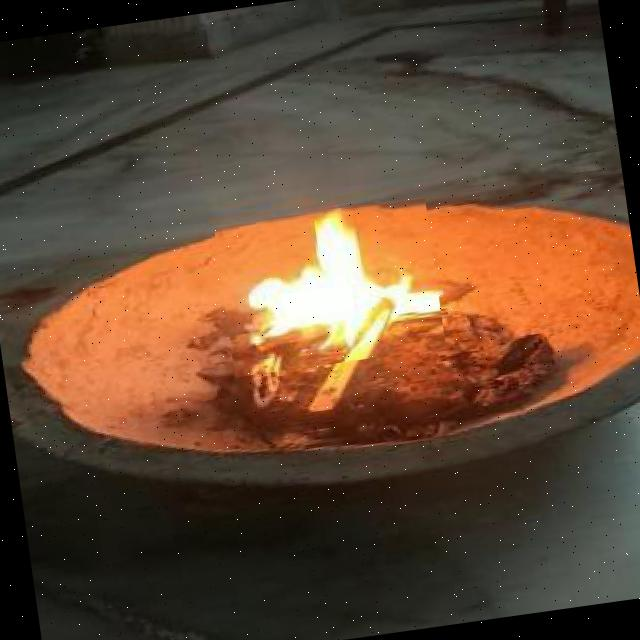fire: (214, 196, 446, 378)
